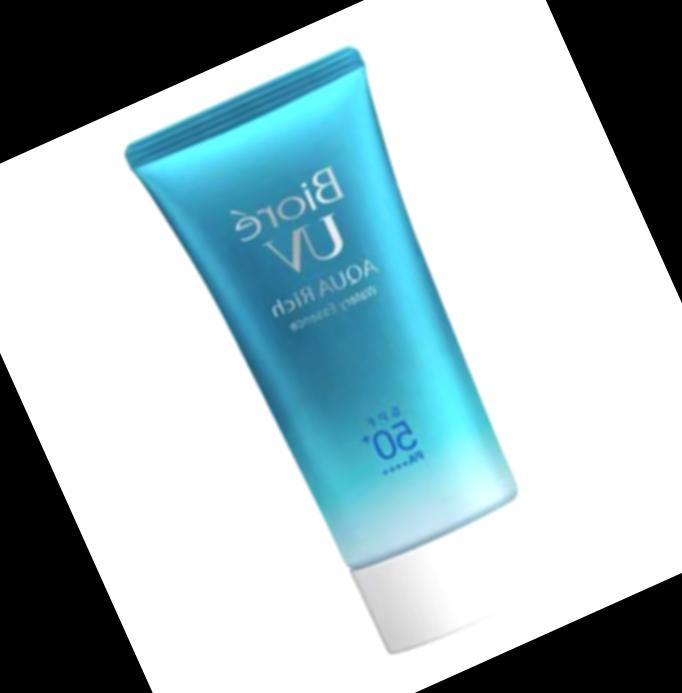cosmetic: (119, 39, 595, 677)
